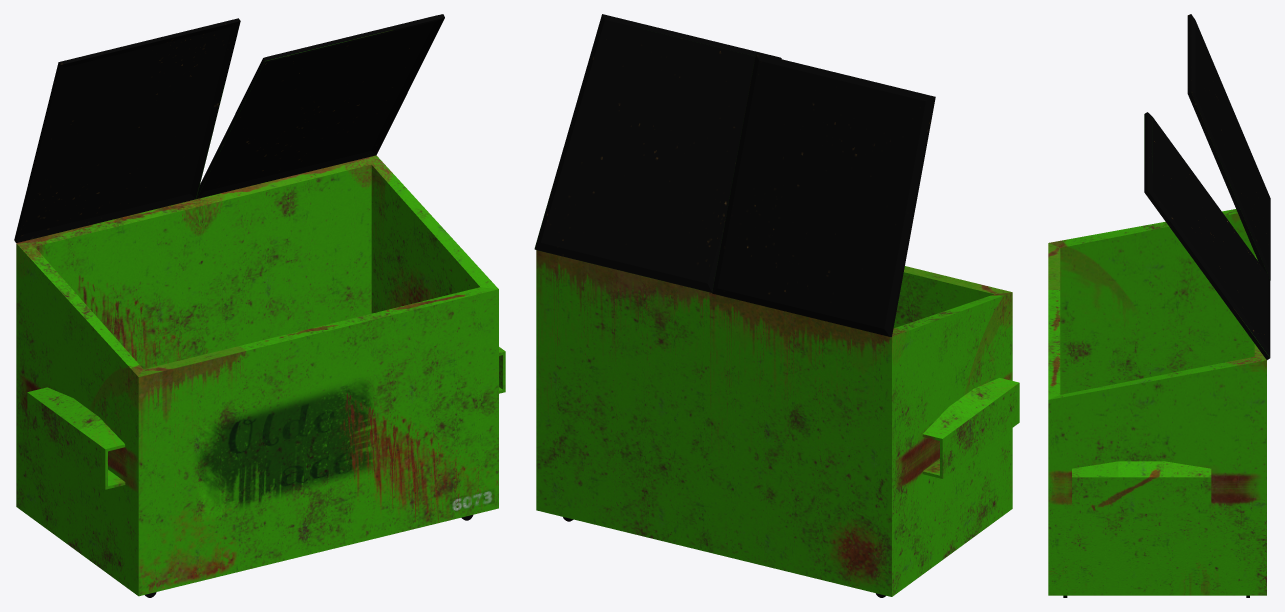
Rendered from dumpster2.fbx.
The picture shows the model from 3 angles, left to right: view 1: azimuth 30°, elevation 25°; view 2: azimuth 150°, elevation 25°; view 3: azimuth 270°, elevation 25°; orthographic projection. The views are drawn at different scales.
Parts seen in each view (by area): view 1: dumpster; view 2: dumpster; view 3: dumpster.
Boxes of the visible parts, <box> form: dumpster: <box>14,14,505,597</box>; dumpster: <box>534,14,1019,597</box>; dumpster: <box>1048,14,1270,597</box>.
Bounding box in the file's own units: 378 × 440 × 203.
